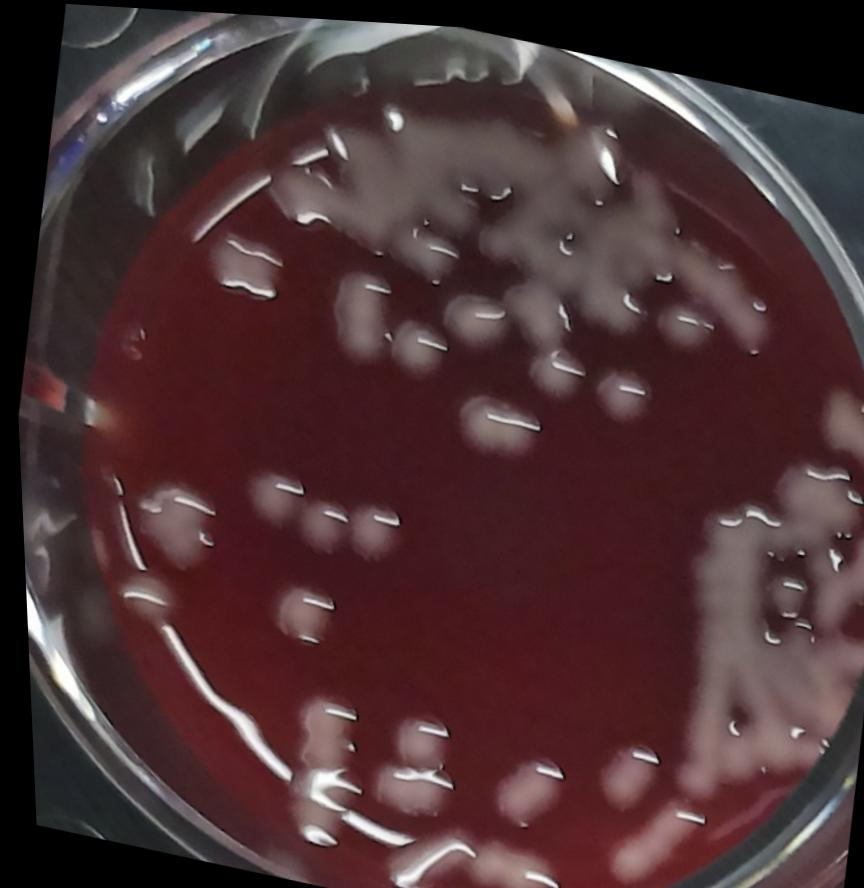vharveyi: (257, 669, 380, 872), (110, 461, 232, 591), (432, 367, 552, 480)
